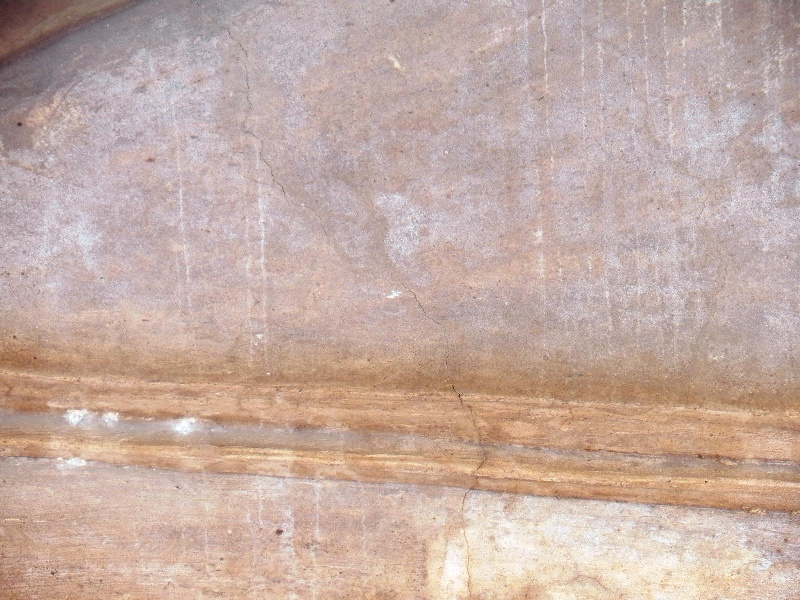Crack: (435, 387, 500, 592)
